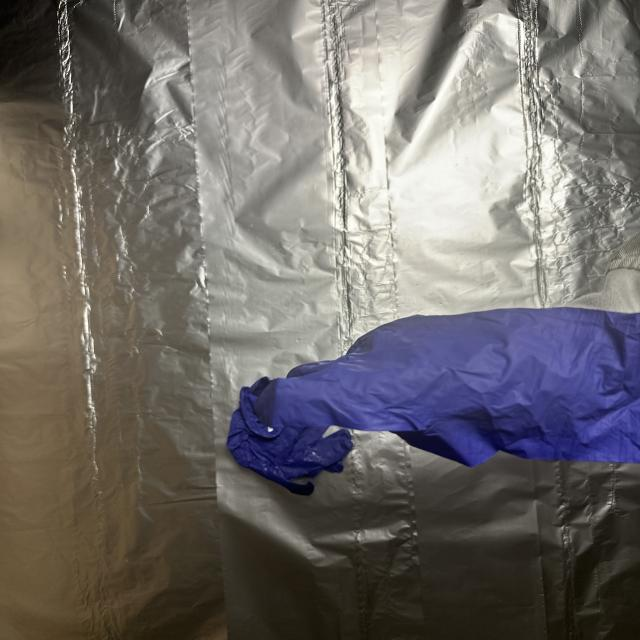glove_not_fitted: (254, 296, 640, 498)
